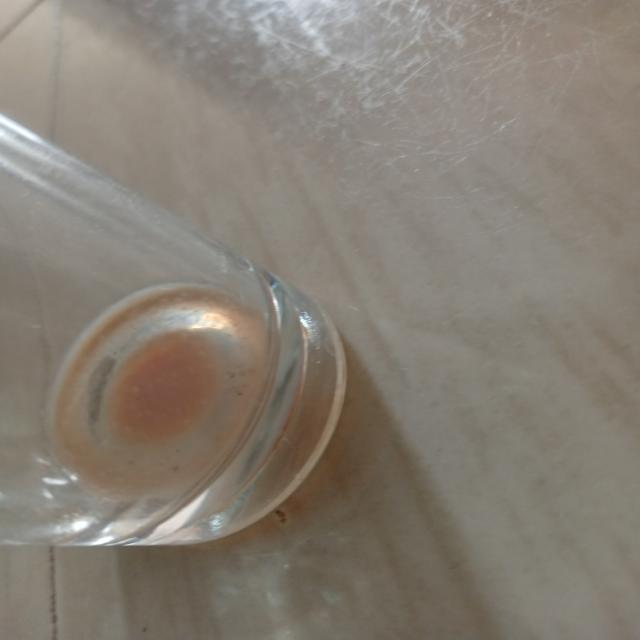glass-VX4N: (0, 99, 352, 588)
